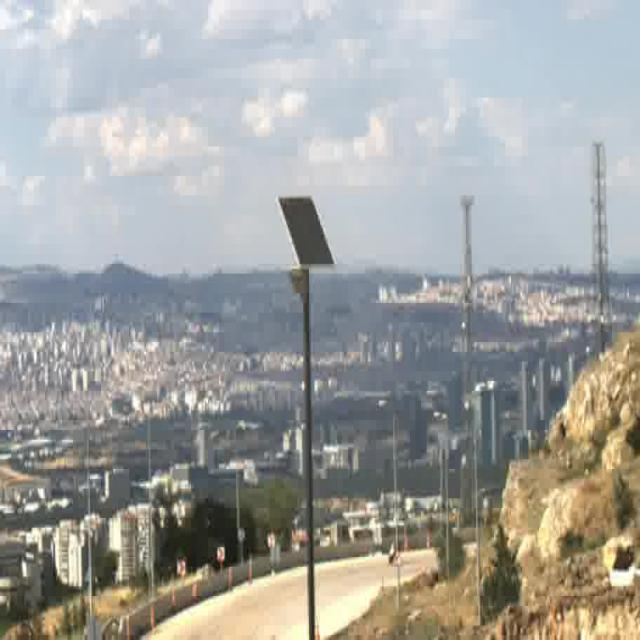Car: (388, 539, 400, 564)
